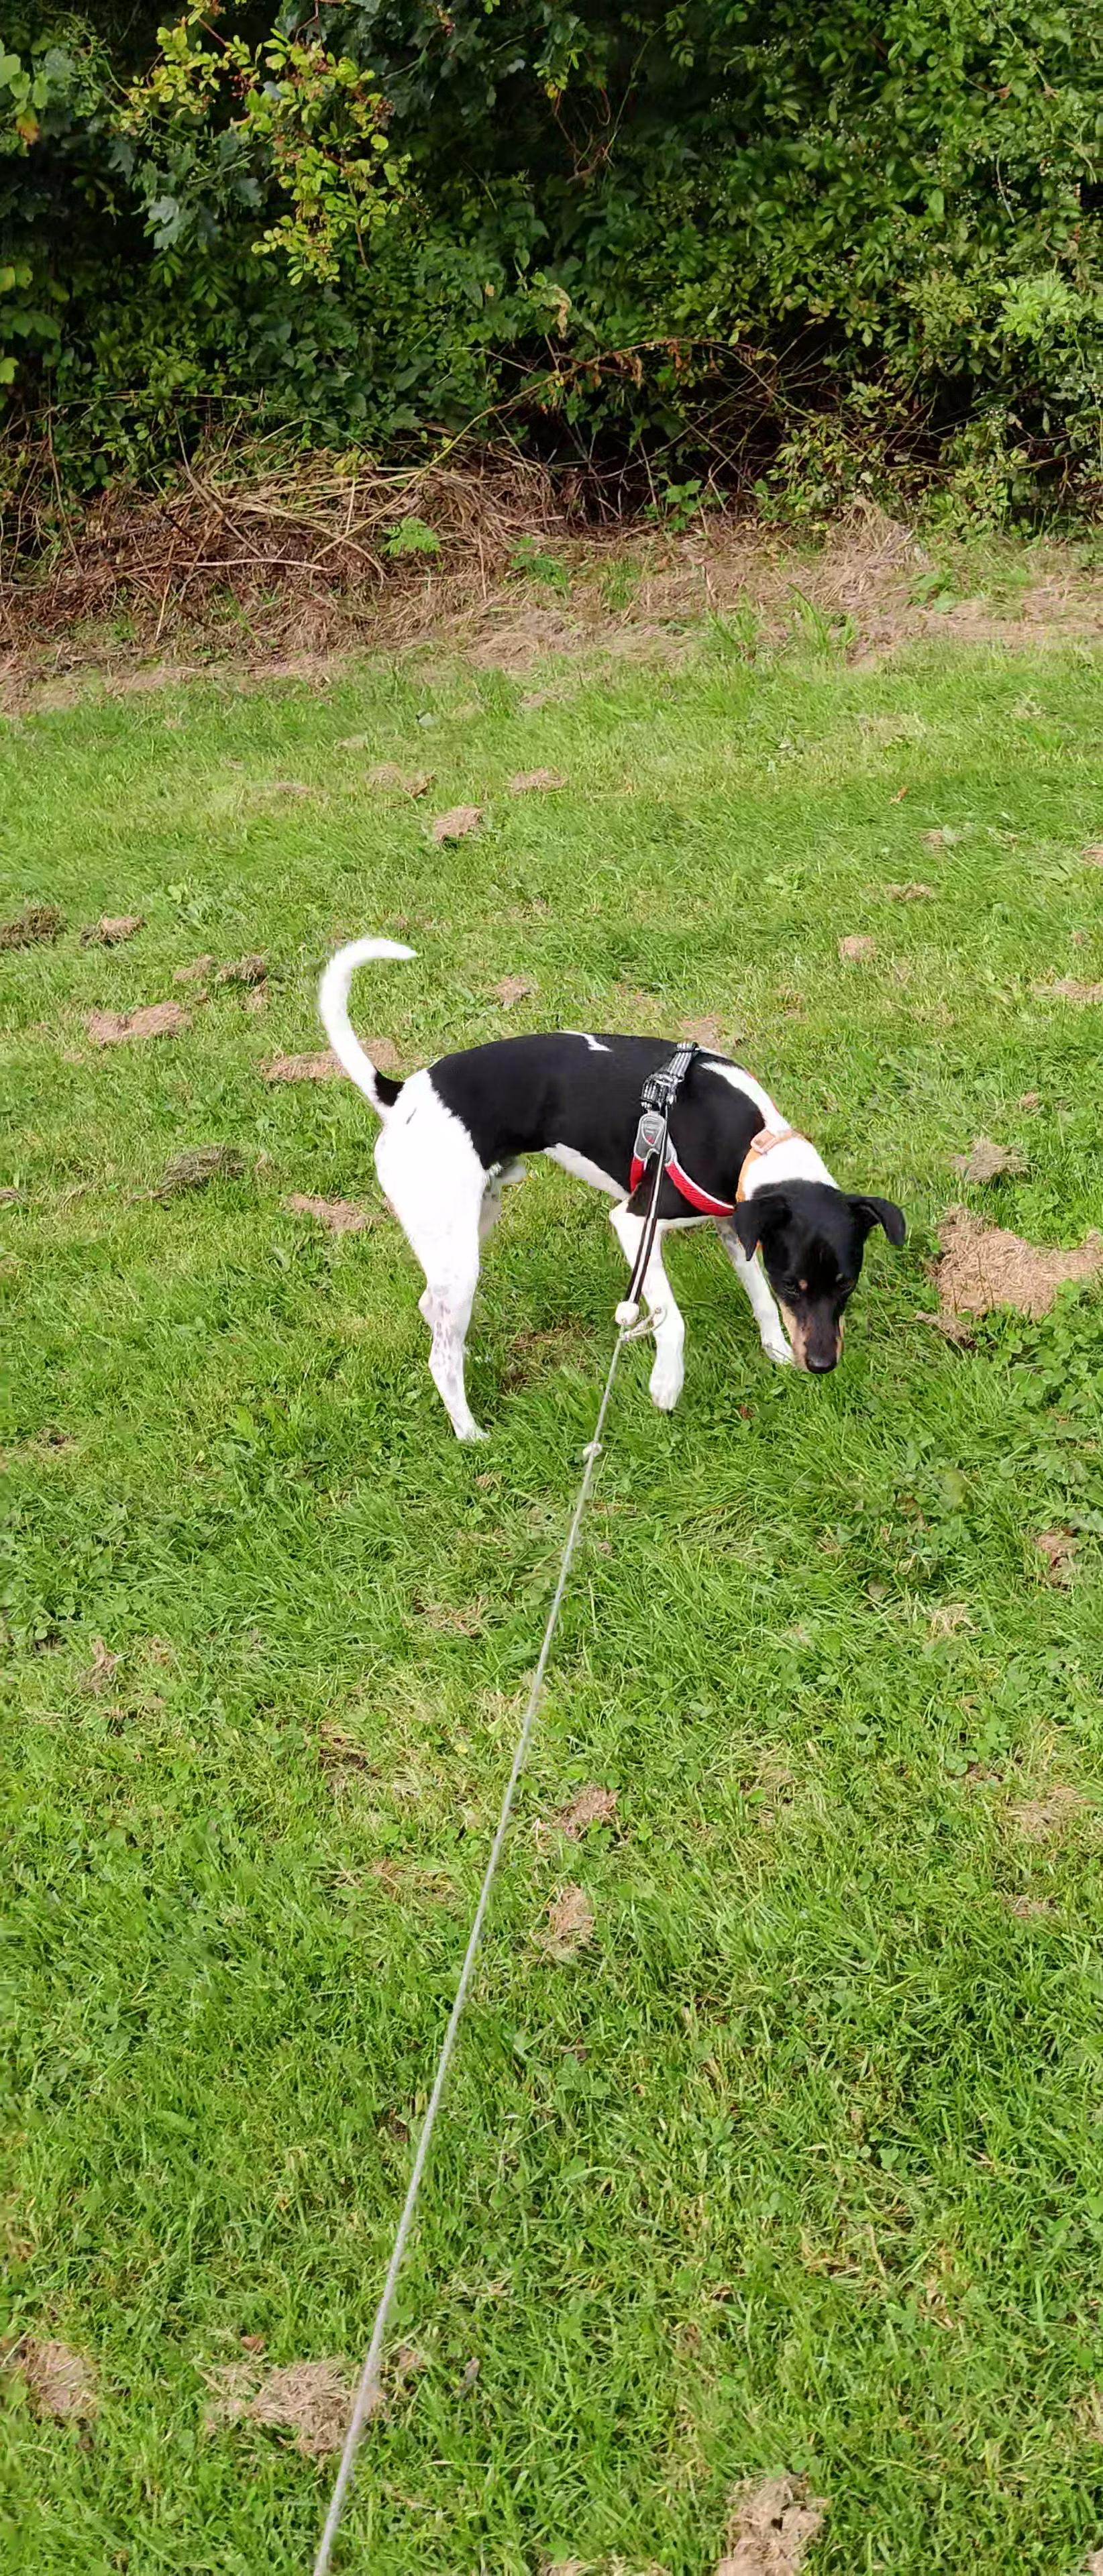Dog: (306, 931, 912, 1449)
